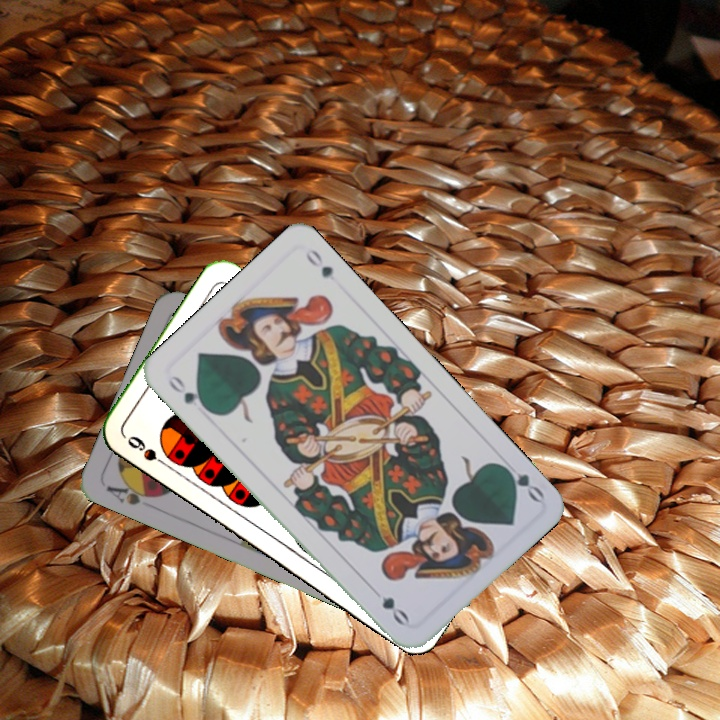GO: (496, 460, 547, 505), (163, 371, 212, 415)
S9: (123, 431, 173, 471)
SA: (102, 476, 163, 508)
